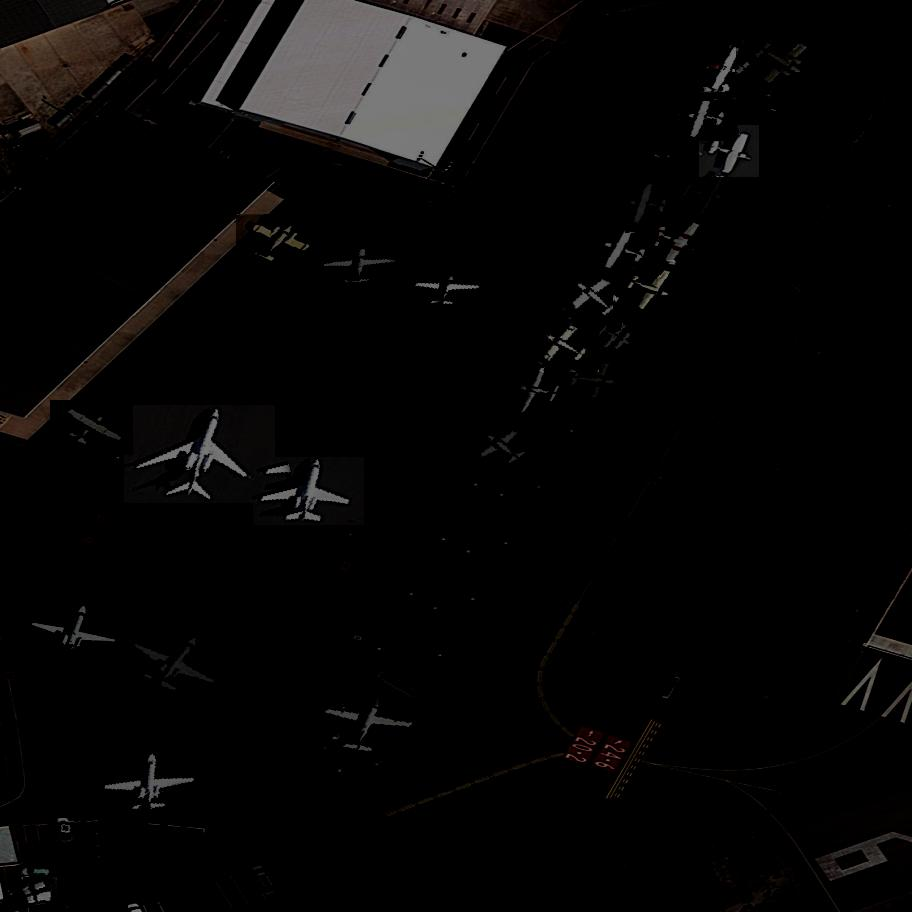large-vehicle: (363, 662, 426, 709)
plane: (124, 396, 275, 506), (116, 612, 235, 710), (310, 688, 424, 765), (22, 595, 127, 676), (253, 457, 364, 528), (738, 18, 822, 102), (97, 750, 202, 814), (50, 394, 133, 465), (236, 209, 320, 276), (698, 31, 768, 108), (670, 156, 738, 232), (641, 204, 711, 277), (617, 251, 686, 324), (563, 265, 631, 332), (594, 216, 660, 285), (534, 314, 600, 381), (471, 416, 540, 480), (510, 357, 568, 427), (699, 120, 759, 185), (680, 85, 734, 149), (319, 248, 403, 286), (623, 179, 679, 228), (409, 271, 483, 308), (589, 313, 643, 362), (566, 358, 624, 403)
small-vehicle: (20, 877, 58, 900), (252, 862, 277, 894), (57, 818, 75, 843), (26, 895, 53, 907), (22, 869, 51, 880)
